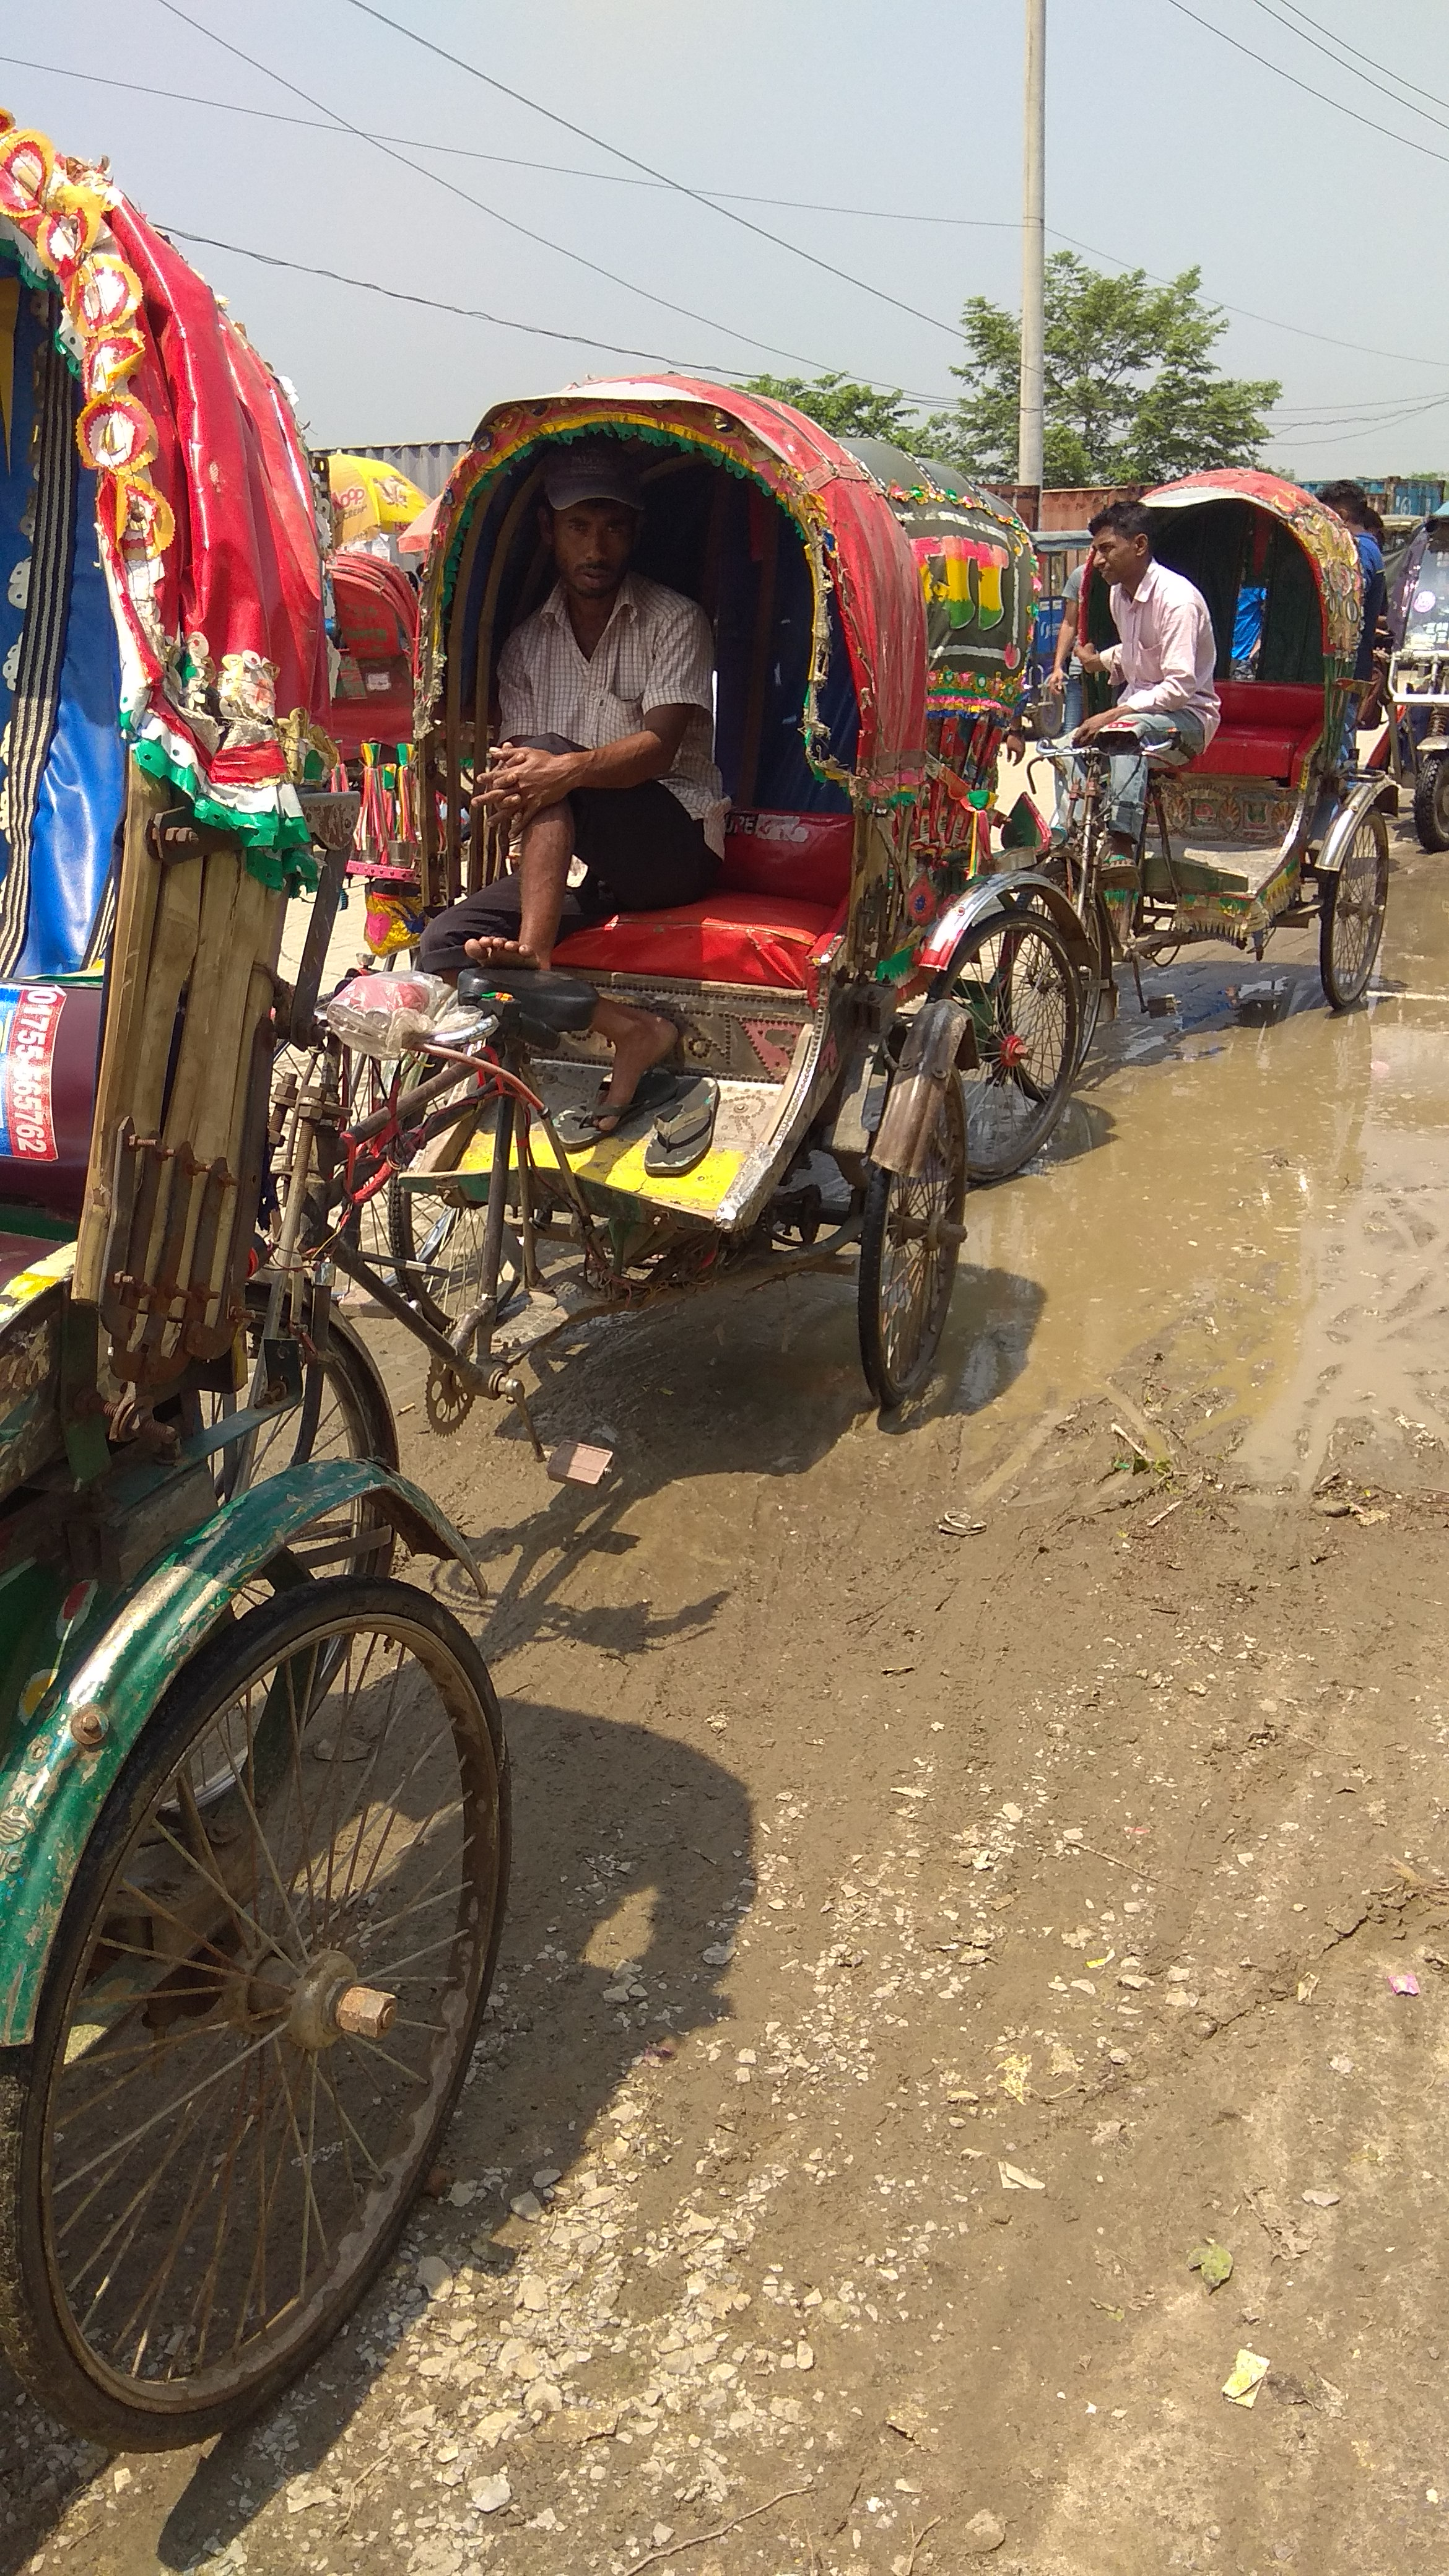Rickshaw: (4, 96, 533, 2419), (373, 333, 977, 1403), (1047, 423, 1398, 1023), (824, 400, 1031, 916), (320, 534, 444, 885)
